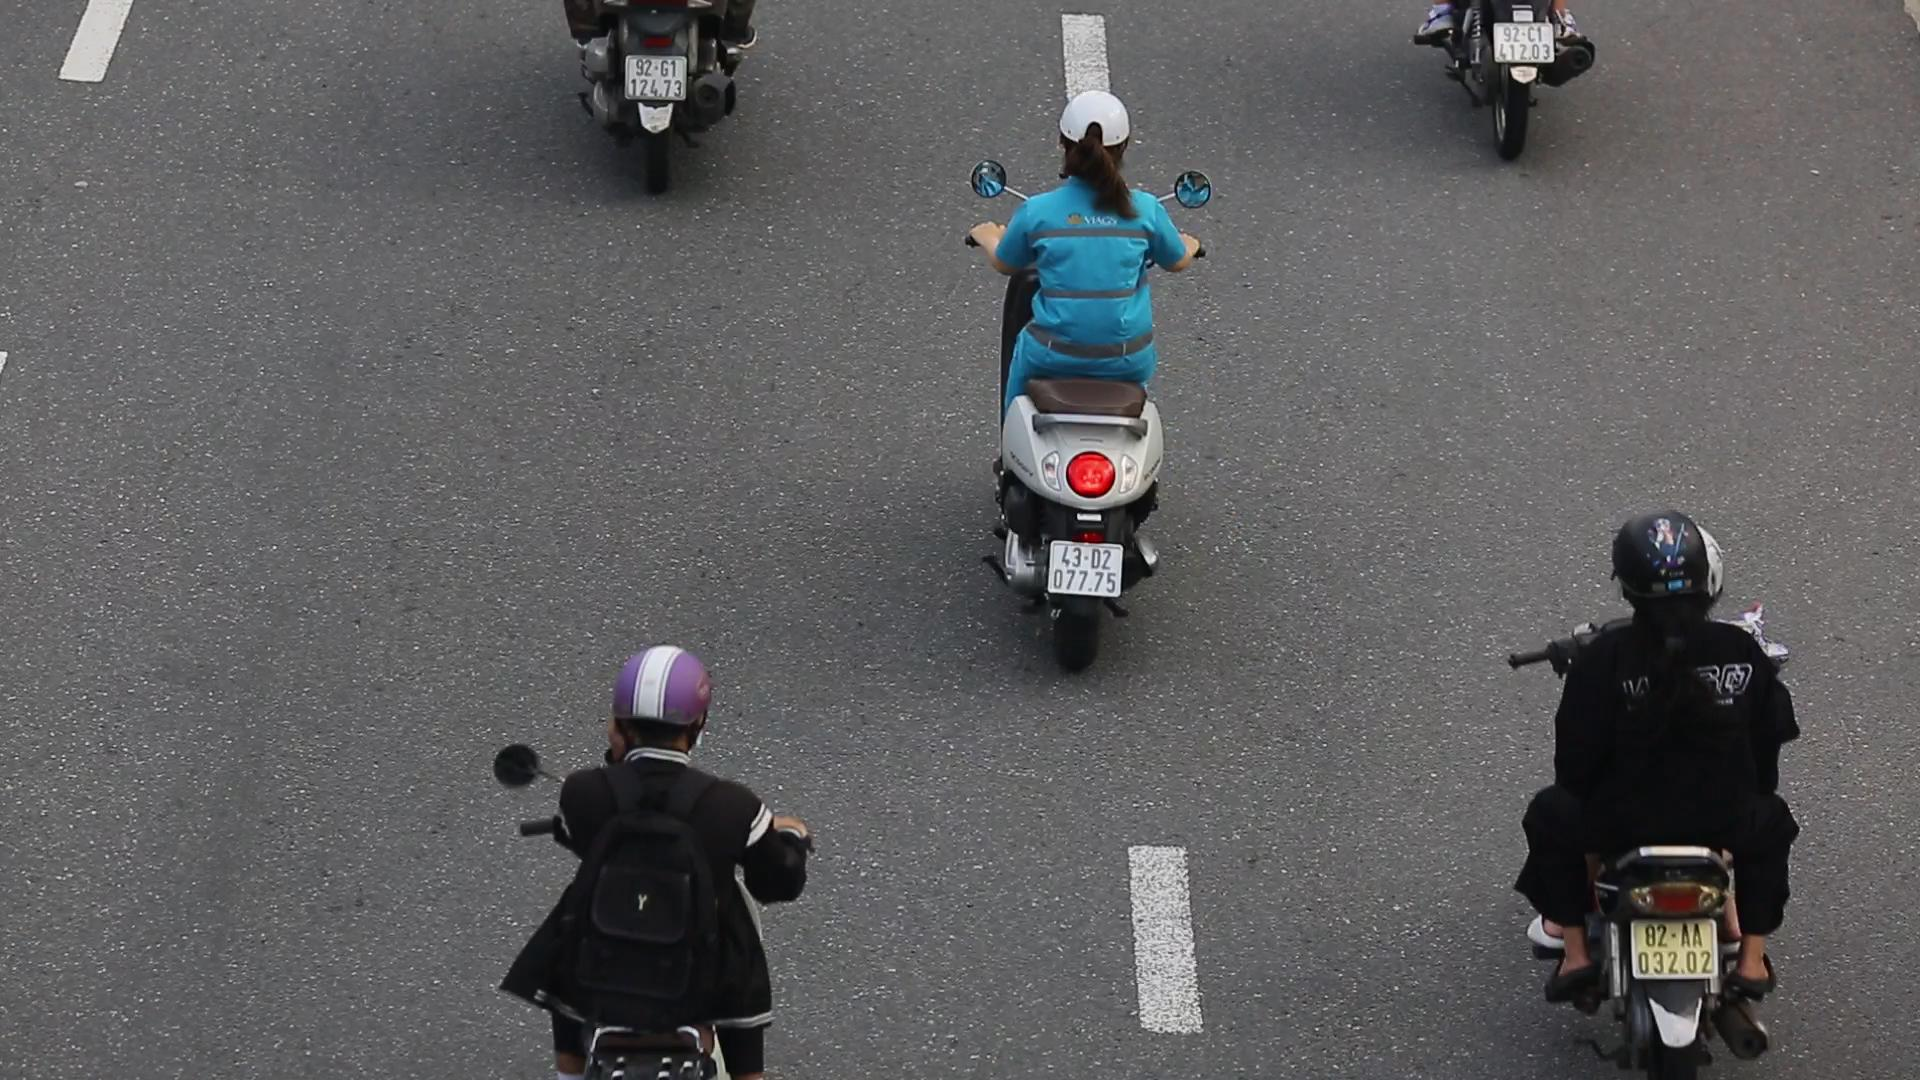motobike: (1502, 491, 1808, 1080), (952, 76, 1238, 684)
